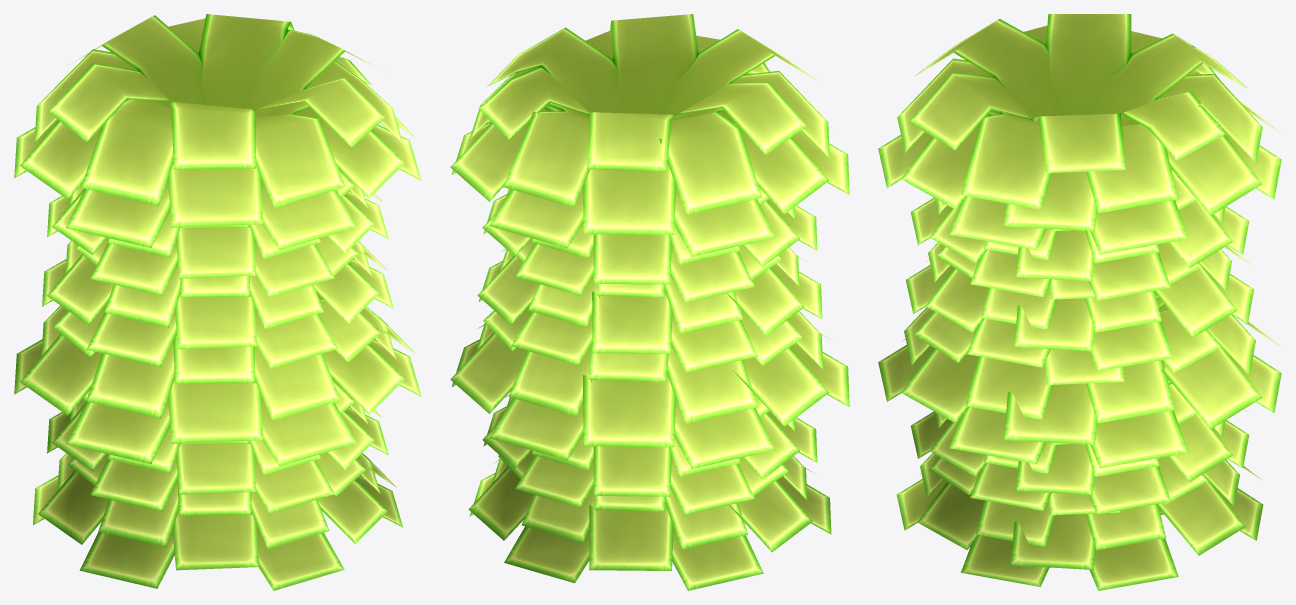
The model's file is SM_Plant_01_D.glb.
The picture shows the model from 3 angles, left to right: view 1: azimuth 30°, elevation 25°; view 2: azimuth 150°, elevation 25°; view 3: azimuth 270°, elevation 25°; orthographic projection.
Parts seen in each view (by area): view 1: SM_Plant_01_D; view 2: SM_Plant_01_D; view 3: SM_Plant_01_D.
Boxes of the visible parts, <box> form: SM_Plant_01_D: <box>14,14,421,590</box>; SM_Plant_01_D: <box>450,14,849,590</box>; SM_Plant_01_D: <box>878,14,1281,590</box>.
Bounding box in the file's own units: 0.6901 × 0.8744 × 0.6835.
1 material, 1 textured.
